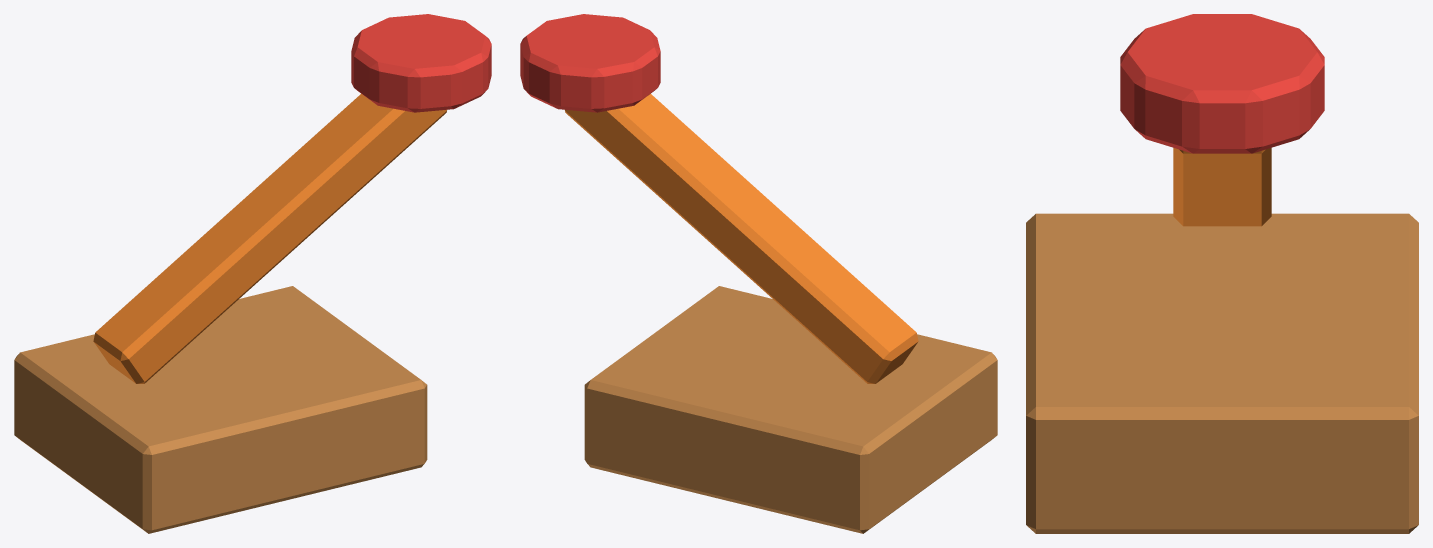
The model's file is catapult.glb.
3 renders of one model, left to right at view 1: azimuth 30°, elevation 25°; view 2: azimuth 150°, elevation 25°; view 3: azimuth 270°, elevation 25°, orthographic. The views are drawn at different scales.
Visible parts, largest first — view 1: catapult; view 2: catapult; view 3: catapult.
Boxes of the visible parts, box(x1,y1,x2,y2) form: catapult: box(14, 14, 491, 533); catapult: box(520, 14, 997, 533); catapult: box(1026, 14, 1418, 533).
Size of the model in its own units: 0.4813 by 0.415 by 0.28.
